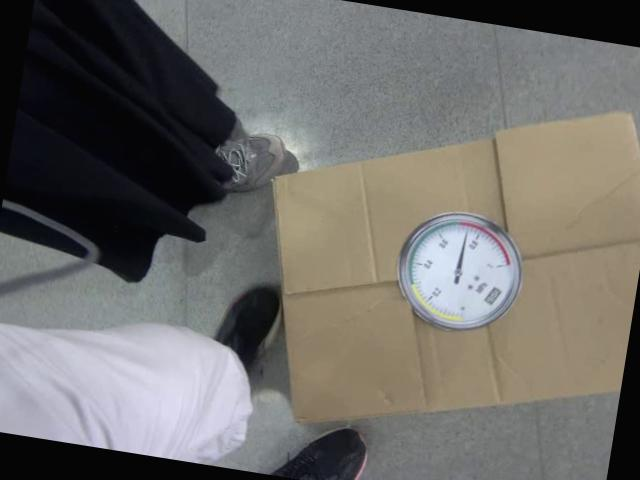Dashboard: (389, 204, 530, 338)
ssi: (483, 285, 502, 308)
